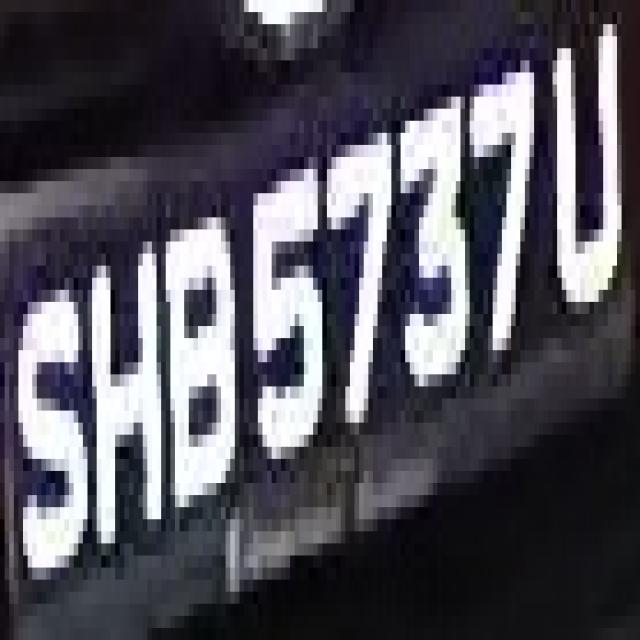3: (378, 97, 483, 410)
5: (244, 121, 322, 483)
7: (451, 24, 539, 435), (308, 145, 401, 447)
B: (152, 181, 244, 519)
H: (88, 205, 161, 556)
S: (14, 266, 97, 580)
U: (543, 12, 622, 314)
